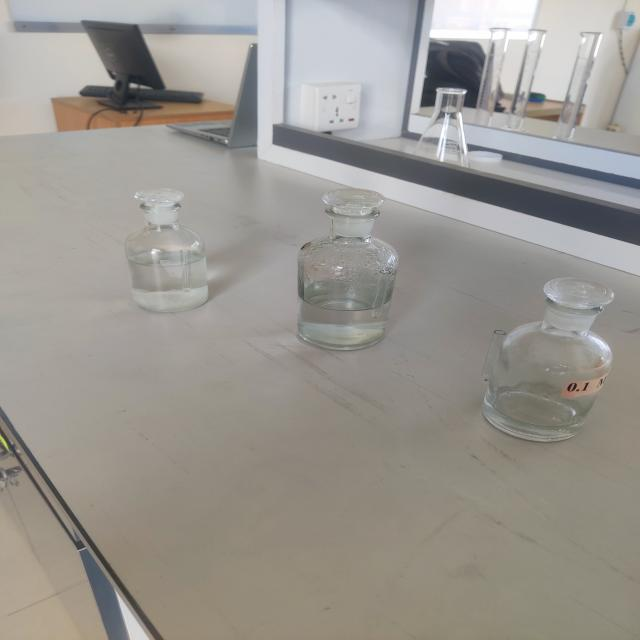Reagent_Bottle: (470, 253, 626, 471), (273, 165, 427, 371), (100, 166, 236, 334)
